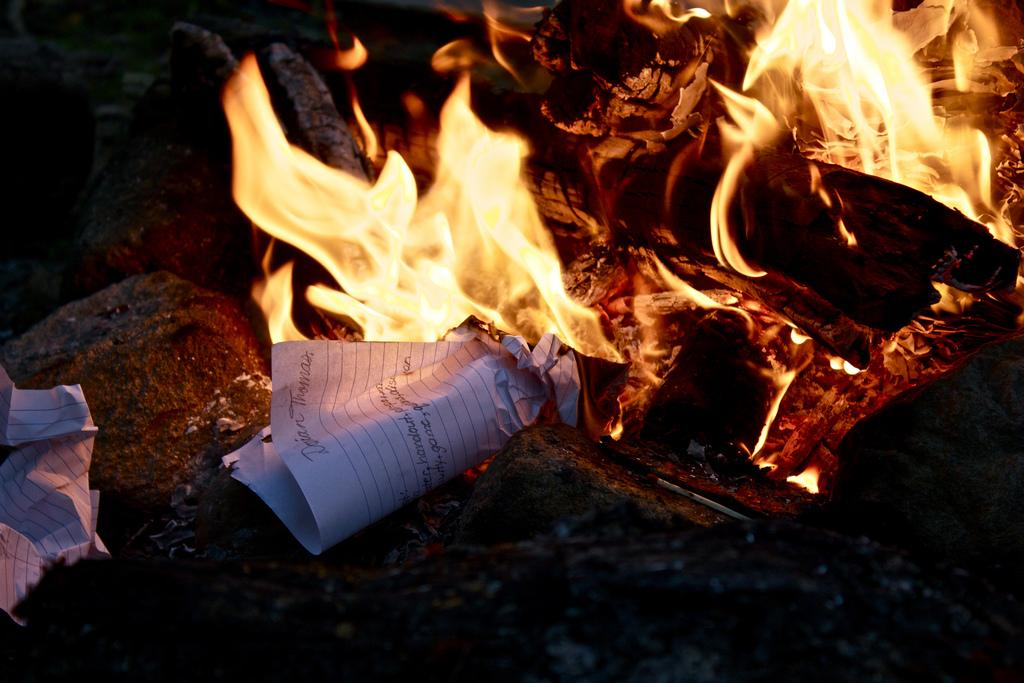fire: (272, 163, 578, 330), (775, 0, 978, 187)
